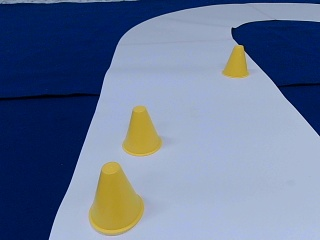cone: (89, 163, 144, 234), (122, 107, 162, 155), (223, 46, 247, 78)
